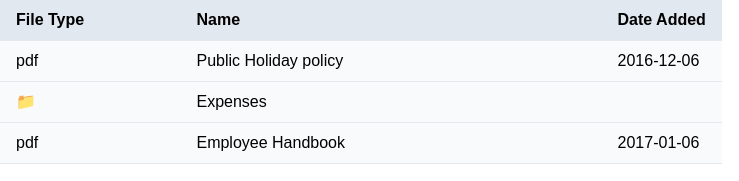
it: FileExplorer › Sorting › should sort by date when date heading is clicked
Click the column heading "Date Added": click(662, 20) [602,0,722,40]
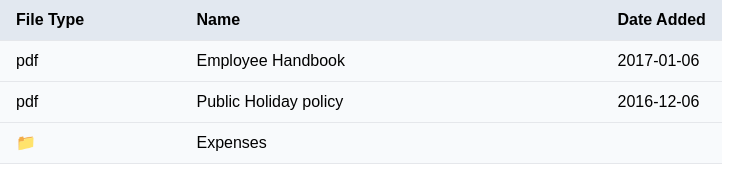
Expected: the cell "2017-01-06" is shown, [602,40,722,82]
